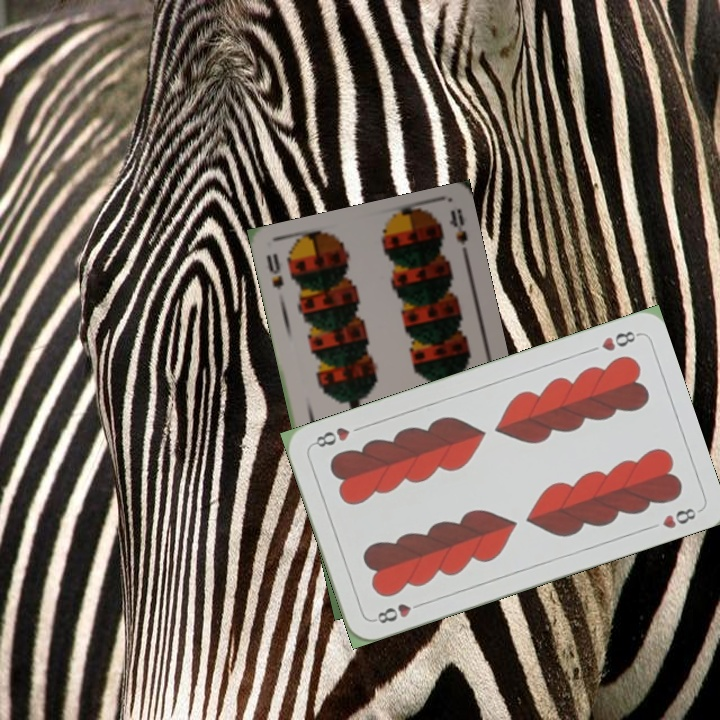H8: (369, 598, 426, 626), (597, 327, 641, 354)
S8: (262, 249, 286, 292)
